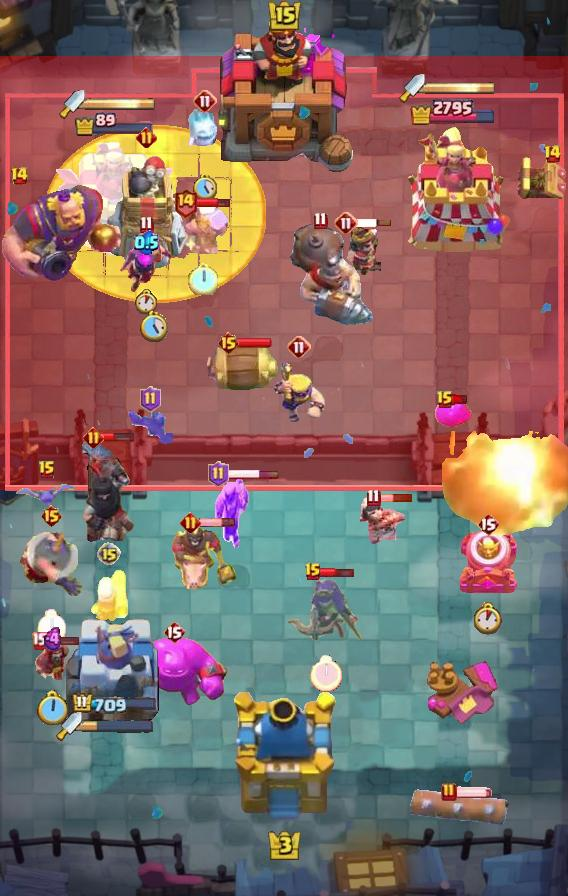arrows: (272, 362, 327, 422), (213, 477, 251, 552)
bar: (394, 126, 512, 256), (54, 142, 173, 256), (66, 611, 162, 731)
barbarian: (127, 410, 173, 448), (15, 481, 79, 507)
barbarian-hut: (285, 577, 367, 653)
bat: (183, 107, 227, 153)
bomber-evolution: (347, 227, 381, 277)
bowler: (34, 640, 72, 686)
clone: (119, 635, 229, 709)
electro-spirit: (133, 229, 158, 254), (42, 627, 65, 651)
elixir: (37, 690, 70, 728), (310, 655, 342, 693), (472, 602, 504, 634), (37, 609, 66, 643), (188, 262, 218, 294), (140, 310, 168, 341), (133, 289, 158, 315), (193, 174, 217, 201)
emote: (226, 469, 280, 480), (195, 195, 231, 208), (455, 786, 493, 798), (320, 566, 355, 579), (237, 337, 273, 349), (200, 516, 237, 527), (101, 431, 134, 443), (44, 635, 80, 646), (356, 218, 392, 228), (378, 493, 414, 503), (451, 395, 469, 406)
freeze: (170, 527, 238, 593)
goblin-brawler: (514, 153, 568, 203)
goblin-cage: (456, 527, 520, 597)
inferno-dragon: (77, 438, 137, 544)
king-tower: (211, 7, 357, 181), (227, 692, 341, 826)
king-tower-bar: (82, 719, 154, 733), (425, 81, 495, 95), (85, 97, 155, 111)
lightning: (0, 185, 124, 283)
mighty-miner: (176, 202, 230, 256)
miner: (435, 400, 475, 428)
minion: (410, 789, 510, 825)
monk: (18, 532, 84, 598)
phoenix-egg: (43, 124, 266, 303)
rascal-girl: (118, 230, 174, 296)
selected: (409, 97, 497, 125), (70, 692, 157, 716), (73, 112, 154, 137)
skeleton-dragon: (357, 494, 409, 546)
text: (174, 186, 199, 217), (193, 89, 217, 113), (334, 211, 358, 235), (287, 335, 311, 359), (97, 542, 121, 566), (216, 331, 239, 355), (40, 504, 63, 528), (140, 386, 161, 412), (208, 461, 229, 487), (477, 512, 499, 536), (163, 620, 185, 644), (135, 127, 156, 149), (83, 427, 105, 448), (179, 511, 201, 532), (542, 144, 562, 164), (10, 166, 29, 186), (436, 390, 454, 410), (38, 460, 56, 480), (304, 562, 322, 582), (32, 631, 49, 650), (441, 782, 457, 802), (312, 211, 327, 230), (367, 489, 382, 508), (138, 215, 153, 233)
the-log: (203, 344, 279, 394)
tombstone: (88, 567, 130, 625)
valkyrie: (438, 431, 568, 553)
wizard: (287, 220, 375, 328)
zappy: (103, 153, 188, 275)
